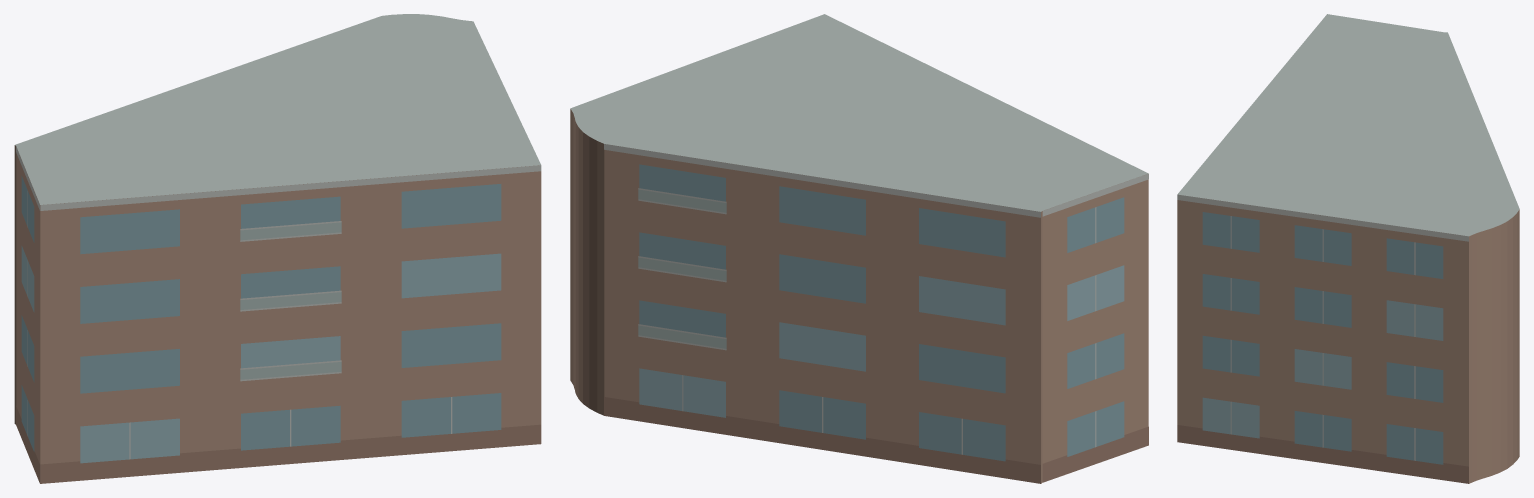
File: survey-upis-32856161.glb
3 views of the same model, side by side, from view 1: azimuth 30°, elevation 25°; view 2: azimuth 150°, elevation 25°; view 3: azimuth 270°, elevation 25° (orthographic). The views are drawn at different scales.
Visible parts, largest first — view 1: survey-upis-32856161.tmp; view 2: survey-upis-32856161.tmp; view 3: survey-upis-32856161.tmp.
Part boxes in pixels (x1,y1,x2,y2): survey-upis-32856161.tmp: [14, 14, 541, 483]; survey-upis-32856161.tmp: [570, 14, 1148, 483]; survey-upis-32856161.tmp: [1177, 14, 1519, 483].
Bounding box in the file's own units: 21.58 × 11.2 × 14.05.
